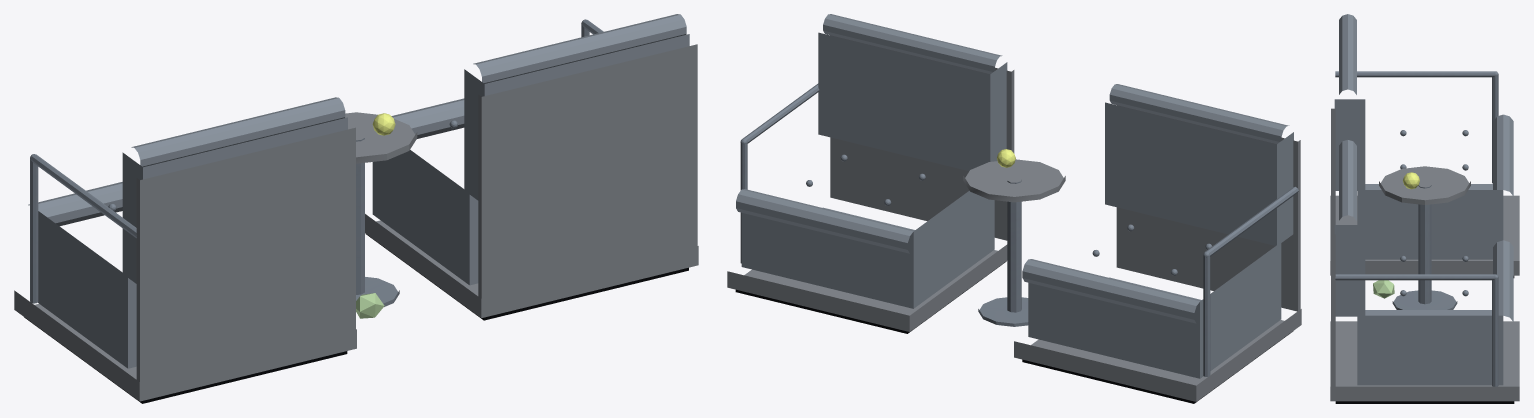
The model's file is tt_cab_lounge_seat.glb.
3 renders of one model, left to right at view 1: azimuth 30°, elevation 25°; view 2: azimuth 150°, elevation 25°; view 3: azimuth 270°, elevation 25°, orthographic. The views are drawn at different scales.
Visible parts, largest first — view 1: BackShell, Cushion, BackCushion, SeatBase, Arm, TableTop, ToeKick, TableLeg, TableFoot; view 2: BackCushion, Cushion, BackShell, SeatBase, TableTop, Arm, TableLeg, ToeKick, TableFoot; view 3: Cushion, SeatBase, BackCushion, Arm, TableTop, BackShell, TableLeg, TableFoot, ToeKick, MossTuft, Button, TableBall.
Part boxes in pixels (left/top/right/bottom): BackShell: left=136, top=44, right=697, bottom=381; Cushion: left=28, top=98, right=478, bottom=368; BackCushion: left=122, top=14, right=689, bottom=283; SeatBase: left=14, top=214, right=698, bottom=401; Arm: left=30, top=19, right=603, bottom=303; TableTop: left=345, top=112, right=417, bottom=163; ToeKick: left=24, top=234, right=688, bottom=403; TableLeg: left=356, top=138, right=364, bottom=294; TableFoot: left=356, top=277, right=399, bottom=306; BackCushion: left=818, top=14, right=1293, bottom=245; Cushion: left=736, top=189, right=1281, bottom=378; BackShell: left=830, top=35, right=1300, bottom=311; SeatBase: left=727, top=244, right=1301, bottom=401; TableTop: left=963, top=159, right=1065, bottom=202; Arm: left=740, top=83, right=1298, bottom=376; TableLeg: left=1007, top=180, right=1021, bottom=312; ToeKick: left=735, top=261, right=1293, bottom=403; TableFoot: left=978, top=297, right=1028, bottom=326; Cushion: left=1357, top=114, right=1513, bottom=385; SeatBase: left=1330, top=195, right=1519, bottom=401; BackCushion: left=1334, top=14, right=1365, bottom=316; Arm: left=1335, top=71, right=1498, bottom=386; TableTop: left=1379, top=166, right=1470, bottom=204; BackShell: left=1331, top=108, right=1335, bottom=386; TableLeg: left=1418, top=185, right=1431, bottom=304; TableFoot: left=1392, top=290, right=1457, bottom=309; ToeKick: left=1335, top=276, right=1514, bottom=403; MossTuft: left=1373, top=280, right=1394, bottom=298; Button: left=1400, top=130, right=1468, bottom=296; TableBall: left=1403, top=172, right=1419, bottom=189.
Size of what is drawn, in the model's own units: 1.8 by 0.77 by 0.7.
6 materials, 2 textured.
